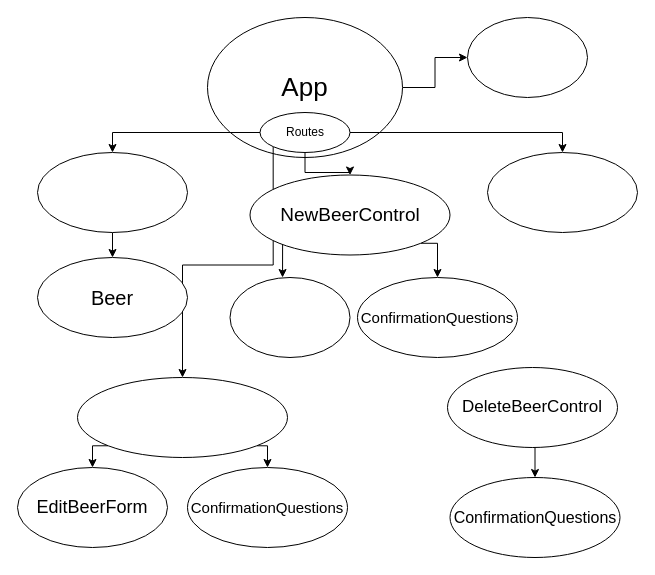
The diagram is 655 pixels wide and 575 high, and some of its shapes have lost their labels. The shapes that lost their labels are listed below. From the top down, each one's centre as x and y in pixels, then its label:
At [527,57]: "Header".
At [112,192]: "Beer List".
At [562,192]: "Error404".
At [289,317]: "NewBeerForm".
At [182,417]: "EditBeerControl".
